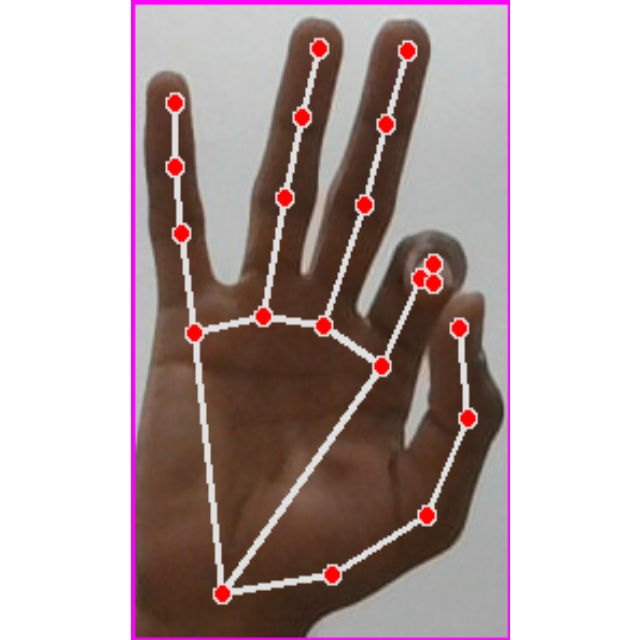F: (131, 0, 510, 640)
